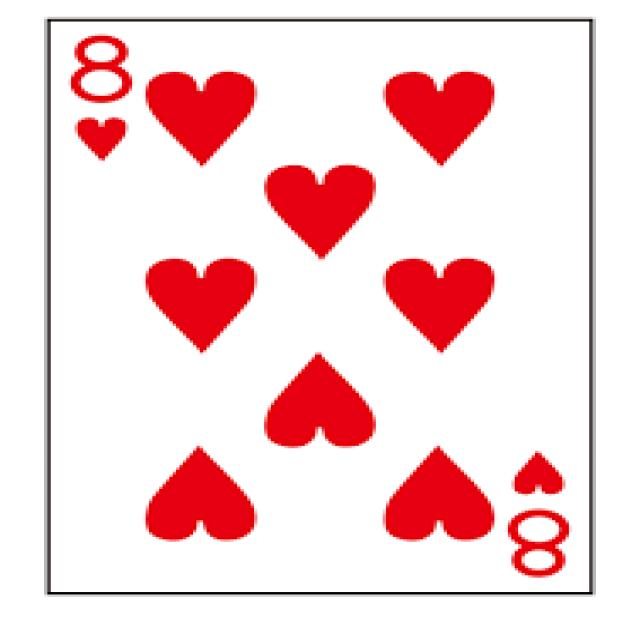H8: (44, 16, 590, 601)
